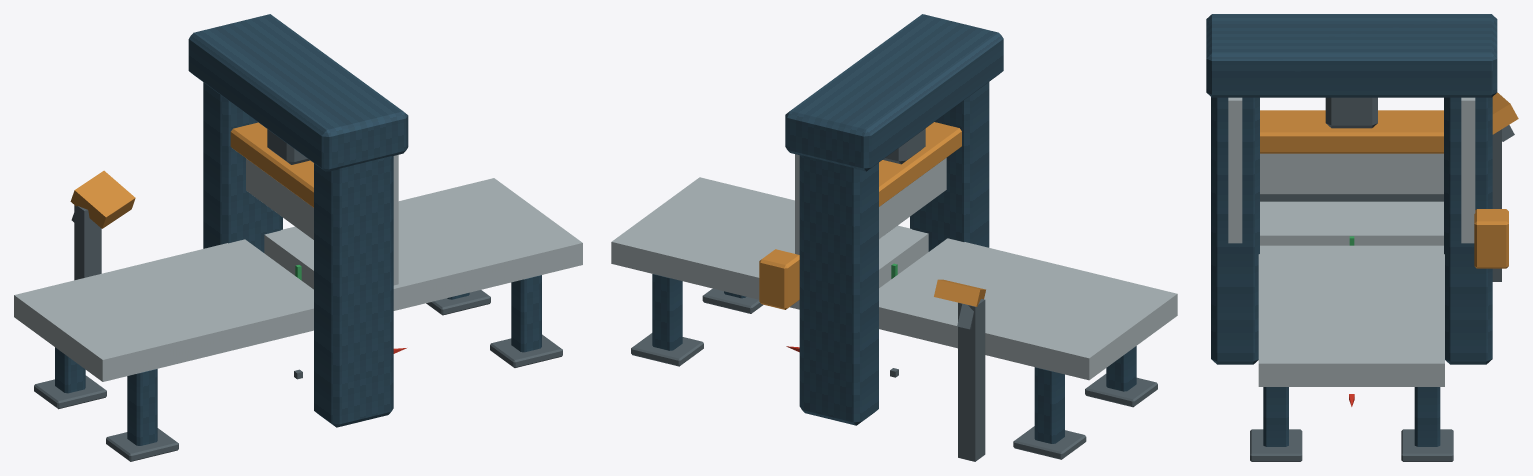
Rendered from shear-lod2.glb.
3 views of the same model, side by side, from view 1: azimuth 30°, elevation 25°; view 2: azimuth 150°, elevation 25°; view 3: azimuth 270°, elevation 25° (orthographic). The views are drawn at different scales.
Visible parts, largest first — view 1: entry_table, right_column, head_beam, exit_table, left_column, blade_carriage, cutting_tool, exit_right_leg, entry_right_leg, service_pad, service_pedestal, entry_right_foot (+6 smaller); view 2: entry_table, left_column, head_beam, exit_table, right_column, service_pedestal, blade_carriage, cutting_tool, entry_left_leg, exit_left_leg, front_control, entry_right_foot (+6 smaller); view 3: exit_table, head_beam, right_column, left_column, entry_table, cutting_tool, blade_carriage, right_guide, left_guide, front_control, hydraulic_body, exit_left_leg (+6 smaller).
Boxes of the visible parts, bbox=[...] form: entry_table: bbox=[14, 239, 313, 381]; right_column: bbox=[314, 156, 393, 427]; head_beam: bbox=[188, 14, 408, 172]; exit_table: bbox=[264, 178, 582, 310]; left_column: bbox=[203, 82, 282, 252]; blade_carriage: bbox=[230, 122, 313, 207]; cutting_tool: bbox=[246, 158, 313, 239]; exit_right_leg: bbox=[511, 275, 541, 352]; entry_right_leg: bbox=[127, 369, 157, 445]; service_pad: bbox=[70, 170, 135, 228]; service_pedestal: bbox=[74, 205, 101, 280]; entry_right_foot: bbox=[106, 428, 178, 461]; entry_table: bbox=[879, 238, 1177, 380]; left_column: bbox=[799, 155, 878, 425]; head_beam: bbox=[785, 14, 1003, 171]; exit_table: bbox=[611, 177, 928, 309]; right_column: bbox=[910, 82, 989, 251]; service_pedestal: bbox=[958, 299, 985, 461]; blade_carriage: bbox=[879, 122, 961, 206]; cutting_tool: bbox=[879, 158, 946, 238]; entry_left_leg: bbox=[1034, 367, 1064, 443]; exit_left_leg: bbox=[652, 274, 682, 350]; front_control: bbox=[759, 249, 799, 309]; entry_right_foot: bbox=[1085, 374, 1157, 407]; exit_table: bbox=[1258, 245, 1444, 386]; head_beam: bbox=[1206, 14, 1497, 97]; right_column: bbox=[1211, 97, 1259, 364]; left_column: bbox=[1444, 97, 1492, 364]; entry_table: bbox=[1260, 201, 1443, 245]; cutting_tool: bbox=[1260, 153, 1443, 194]; blade_carriage: bbox=[1260, 110, 1443, 153]; right_guide: bbox=[1228, 97, 1242, 243]; left_guide: bbox=[1461, 97, 1475, 243]; front_control: bbox=[1474, 209, 1508, 268]; hydraulic_body: bbox=[1325, 97, 1377, 128]; exit_left_leg: bbox=[1414, 387, 1440, 446].
Size of the model in its own units: 5 by 3.04 by 2.68.
7 materials, 1 textured.
